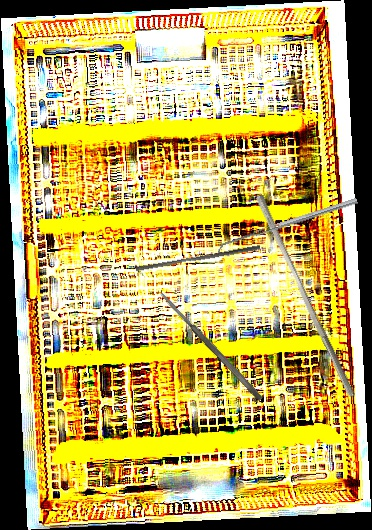Pusher: (248, 192, 364, 400), (135, 240, 261, 276)
Spatula Surgical: (158, 289, 264, 403), (215, 197, 360, 255)
